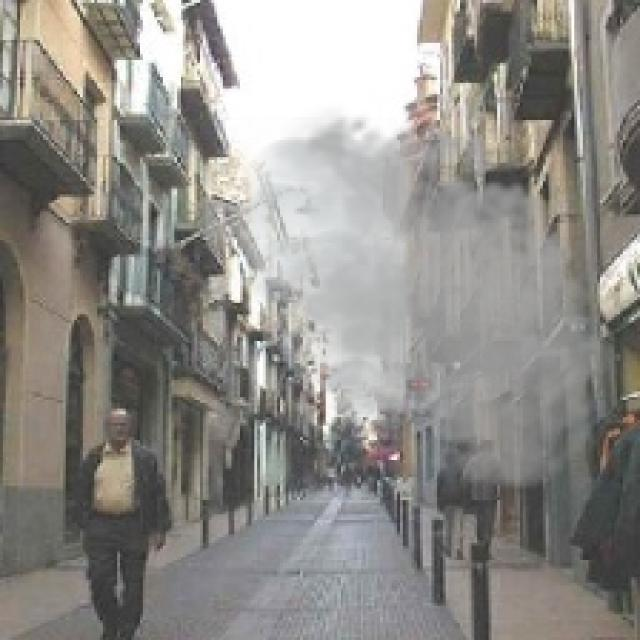Smoke: (206, 102, 628, 498)
